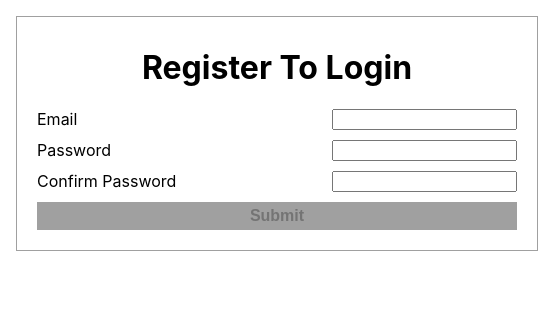
Test: Register Page › handle errors and navigate › should show email error message on invalid email
Expected: the text "Email is not valid" is not shown
Type "amiraliazimloo123" into the field labelled "Email". click: [424, 119]
box: [332, 109, 517, 130]
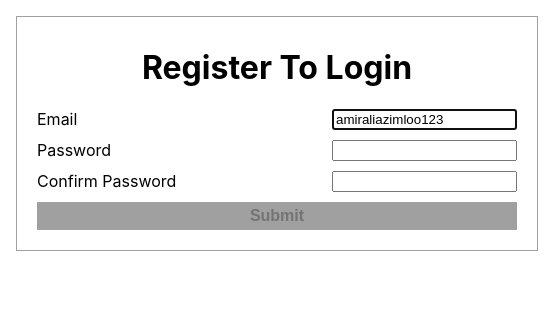
Type "1234567" into the password field labelled "Password". click: [424, 150]
box: [332, 140, 517, 161]
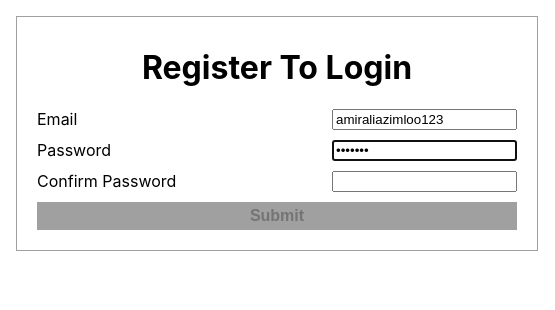
Type "1234567" into the password field labelled "Confirm Password". click: [424, 181]
box: [332, 171, 517, 192]
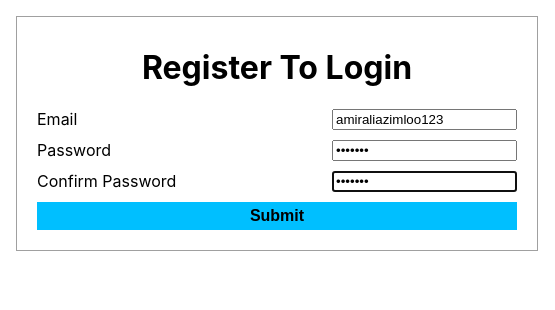
Click the button "Submit". click: [277, 216]
box: [37, 202, 517, 230]
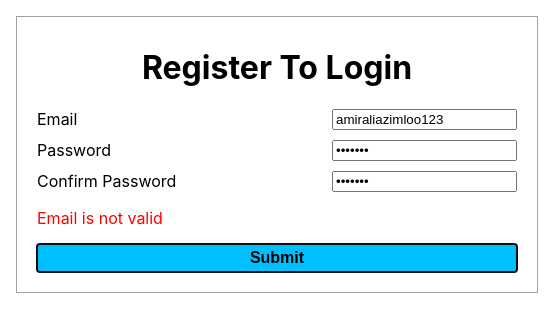
Expected: the text "Email is not valid" is shown, [37, 208, 163, 228]
